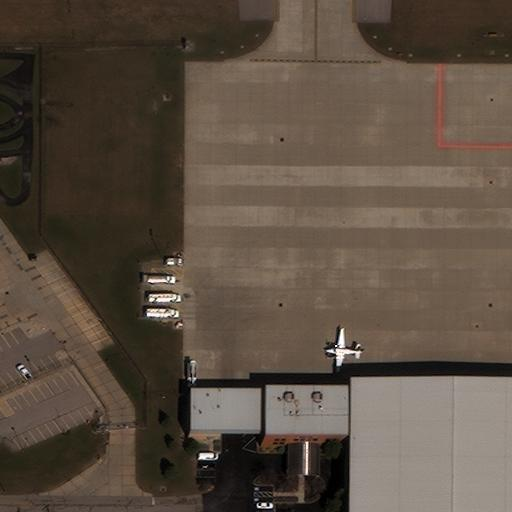Medium Civil Transport: (325, 329, 363, 374)
